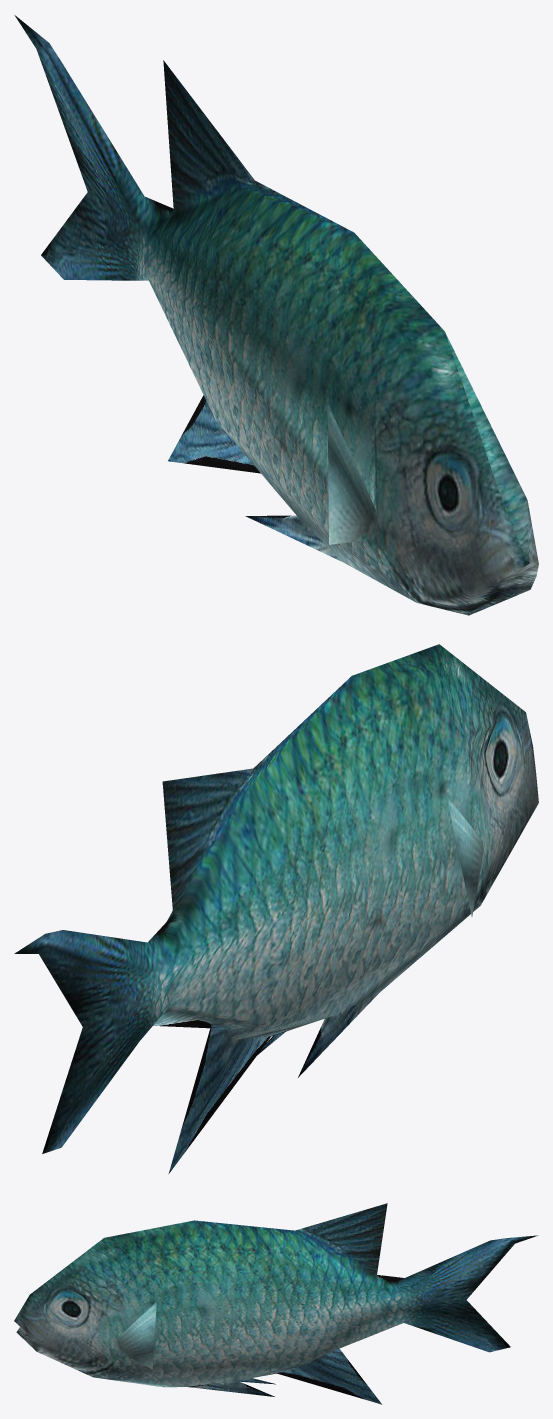
Rendered from lowpolyfish.obj.
3 views of the same model, one above another, from view 1: azimuth 30°, elevation 25°; view 2: azimuth 150°, elevation 25°; view 3: azimuth 270°, elevation 25° (orthographic). The views are drawn at different scales.
Parts seen in each view (by area): view 1: 13007_Blue-Green_Reef_Chromis_v2_l3; view 2: 13007_Blue-Green_Reef_Chromis_v2_l3; view 3: 13007_Blue-Green_Reef_Chromis_v2_l3.
Boxes of the visible parts, <box> form: 13007_Blue-Green_Reef_Chromis_v2_l3: <box>14,15,538,615</box>; 13007_Blue-Green_Reef_Chromis_v2_l3: <box>14,644,538,1174</box>; 13007_Blue-Green_Reef_Chromis_v2_l3: <box>14,1203,538,1404</box>.
Size of the model in its own units: 1.25 by 3.29 by 7.76.
1 material, 1 textured.
